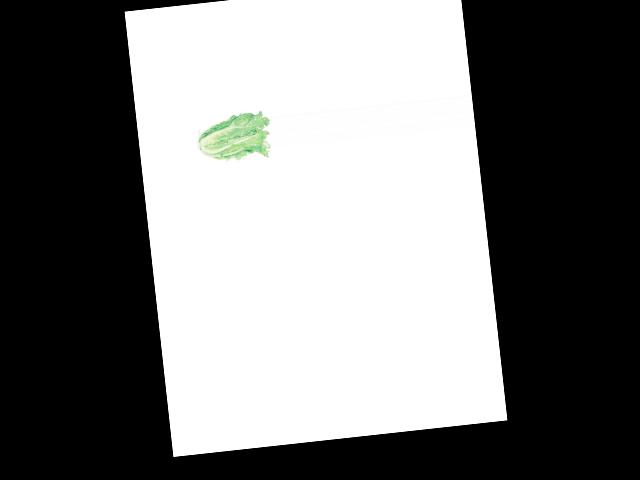lettuce: (196, 109, 274, 166)
